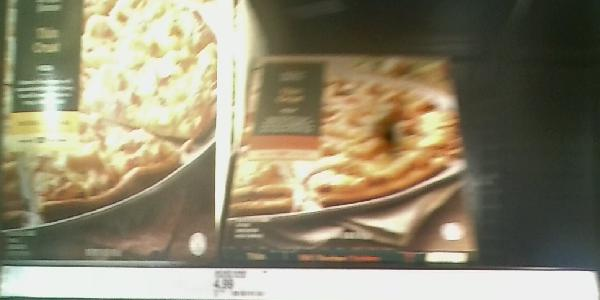pizza1: (1, 1, 220, 270), (218, 49, 481, 267)
